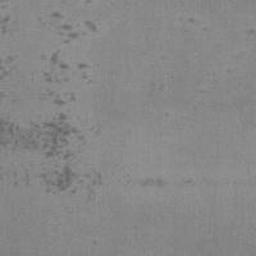Water spot: (0, 0, 241, 218), (0, 0, 22, 38)
